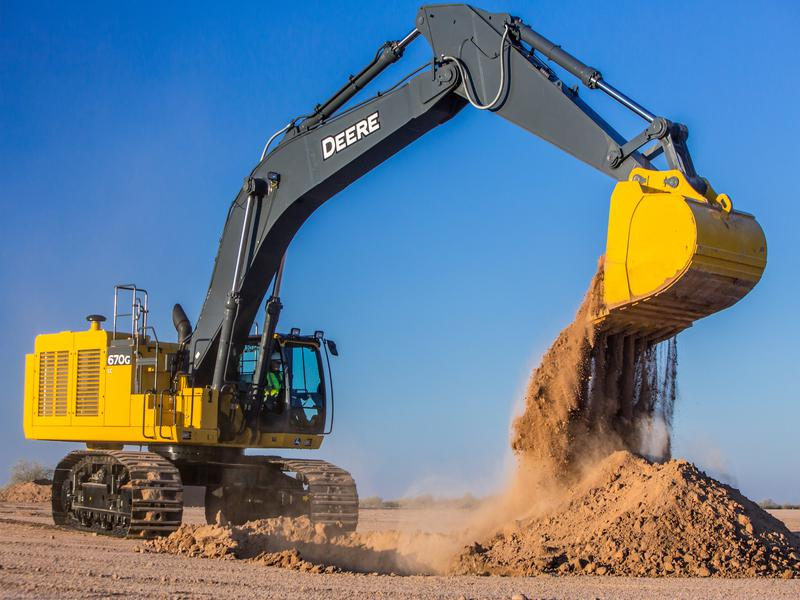shovel: (7, 5, 773, 545)
